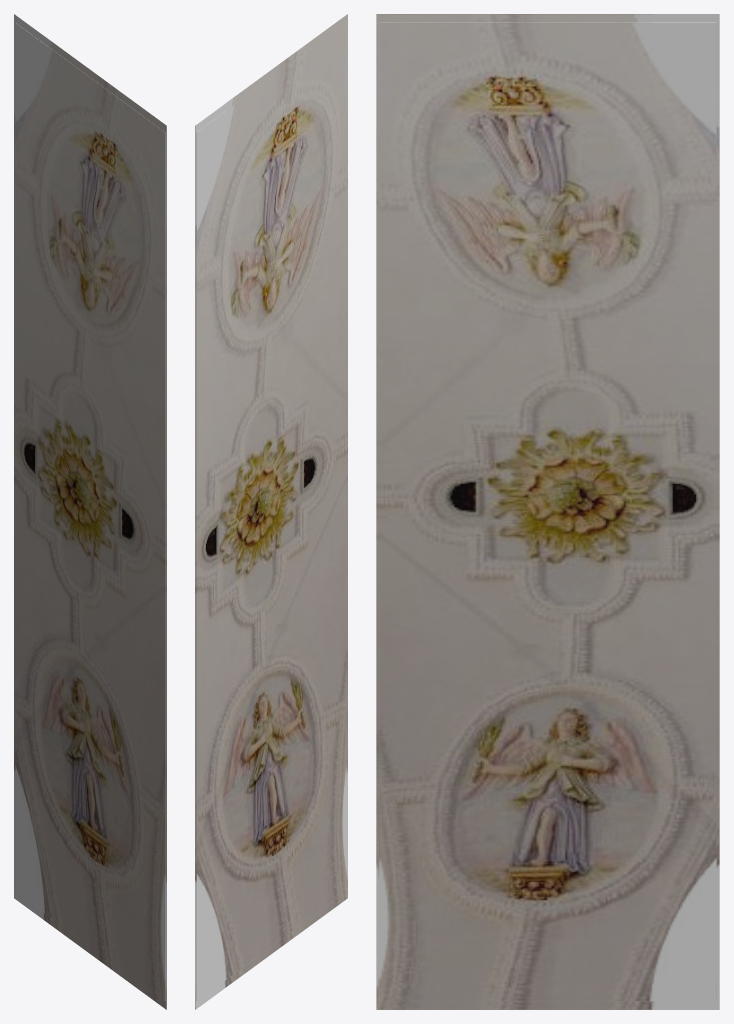
File: 71b - Figury pary aniołów na sklepieniu prezbiterium.glb
The picture shows the model from 3 angles, left to right: view 1: azimuth 30°, elevation 25°; view 2: azimuth 150°, elevation 25°; view 3: azimuth 270°, elevation 25°; orthographic projection. The views are drawn at different scales.
Parts seen in each view (by area): view 1: Plane; view 2: Plane; view 3: Plane.
Part boxes in pixels (x1,y1,x2,y2): Plane: (14, 14, 166, 1009); Plane: (195, 14, 347, 1009); Plane: (376, 14, 719, 1009).
Bounding box in the file's own units: 0.0246 × 32 × 10.
Materials: 1 (1 with a texture image).
